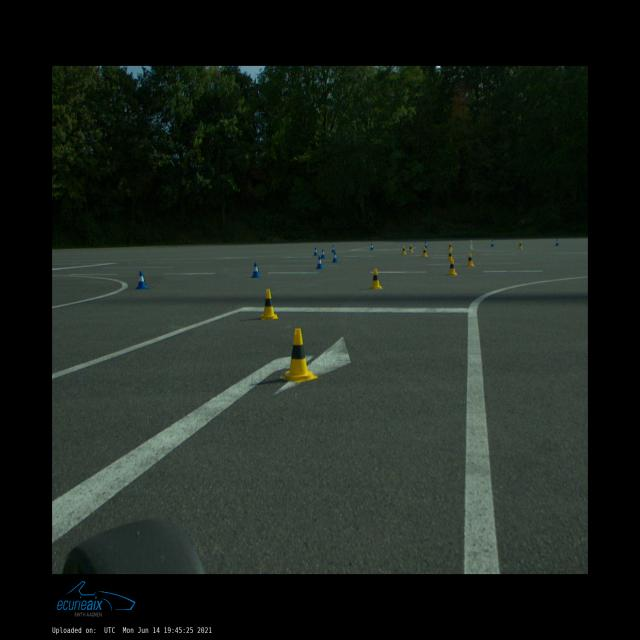blue_cone: (135, 271, 149, 289), (251, 262, 261, 278), (316, 256, 324, 268), (332, 251, 338, 263), (320, 249, 326, 258), (313, 247, 318, 256), (554, 239, 559, 246), (331, 245, 335, 252), (491, 240, 494, 247), (370, 243, 373, 250), (425, 241, 427, 248)
yellow_cone: (280, 329, 318, 382), (259, 289, 278, 320), (369, 269, 384, 289), (448, 260, 457, 276), (466, 253, 475, 266), (447, 249, 452, 261), (422, 247, 427, 257), (408, 244, 414, 252), (448, 242, 453, 250), (518, 241, 523, 248), (402, 246, 406, 254)
